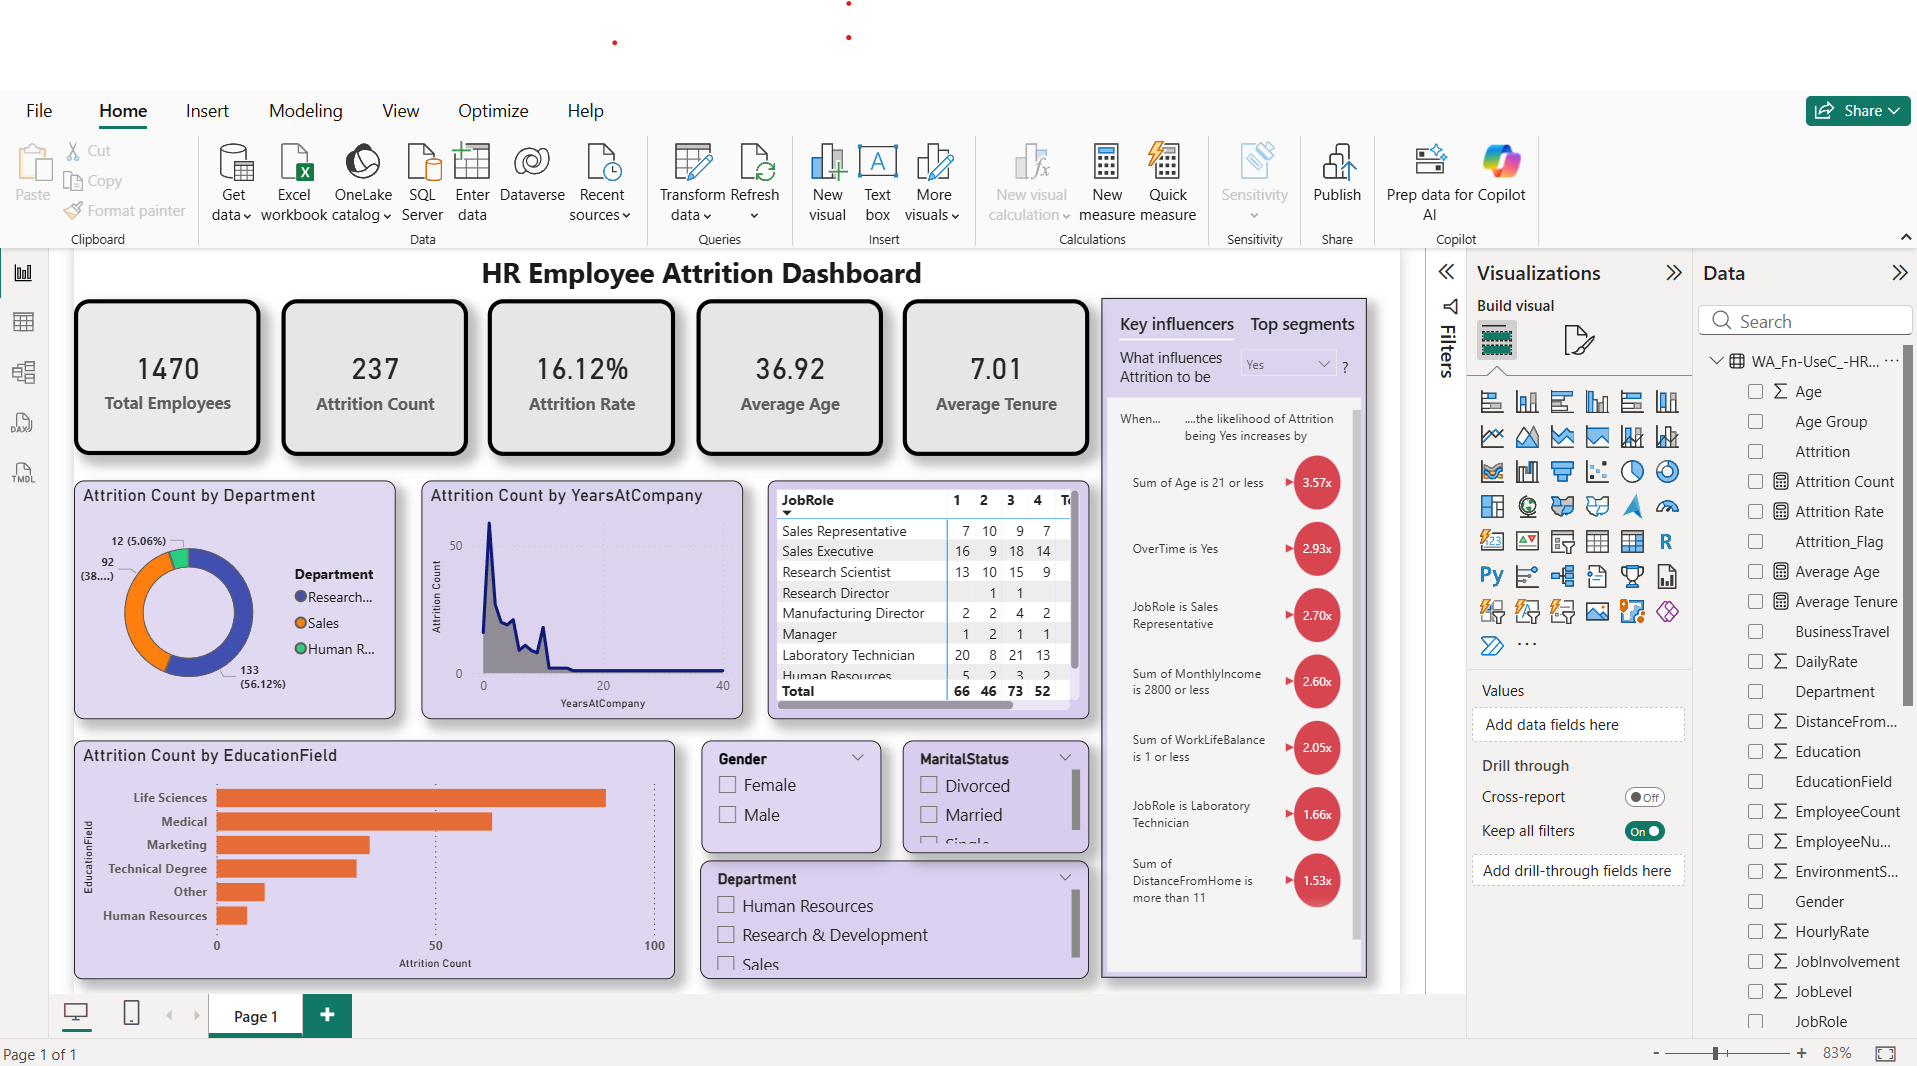

This screenshot's page, from the dashboard's own definition file:
{"tool":"powerbi","page":{"name":"Page 1","canvas":[1280,720],"ordinal":0},"visuals":[{"type":"card","fields":{"Values":["WA_Fn-UseC_-HR-Employee-Attrition.Attrition Count"]},"box":[199.8,50,180,150.9],"z":0},{"type":"card","fields":{"Values":["WA_Fn-UseC_-HR-Employee-Attrition.Attrition Rate"]},"box":[399.5,50,181,150.8],"z":1000},{"type":"card","fields":{"Values":["WA_Fn-UseC_-HR-Employee-Attrition.Average Age"]},"box":[600.2,50,180,150.8],"z":2000},{"type":"card","fields":{"Values":["WA_Fn-UseC_-HR-Employee-Attrition.Average Tenure"]},"box":[800,50,180,150.8],"z":3000},{"type":"pieChart","fields":{"Category":["WA_Fn-UseC_-HR-Employee-Attrition.Department"],"Y":["WA_Fn-UseC_-HR-Employee-Attrition.Attrition Count"]},"box":[0,225,310,230],"z":4000},{"type":"barChart","fields":{"Category":["WA_Fn-UseC_-HR-Employee-Attrition.EducationField"],"Y":["WA_Fn-UseC_-HR-Employee-Attrition.Attrition Count"]},"box":[0,475,580,230.4],"z":5000},{"type":"lineChart","fields":{"Y":["WA_Fn-UseC_-HR-Employee-Attrition.Attrition Count"],"Category":["WA_Fn-UseC_-HR-Employee-Attrition.YearsAtCompany"]},"box":[334.8,225,310,230],"z":6000},{"type":"pivotTable","fields":{"Rows":["WA_Fn-UseC_-HR-Employee-Attrition.JobRole"],"Values":["WA_Fn-UseC_-HR-Employee-Attrition.Attrition Count"],"Columns":["WA_Fn-UseC_-HR-Employee-Attrition.JobSatisfaction"]},"box":[669.6,224.4,310.1,230.4],"z":7000},{"type":"keyDriversVisual","fields":{"Target":["WA_Fn-UseC_-HR-Employee-Attrition.Attrition"],"ExplainBy":["Sum(WA_Fn-UseC_-HR-Employee-Attrition.Age)","Sum(WA_Fn-UseC_-HR-Employee-Attrition.DistanceFromHome)","WA_Fn-UseC_-HR-Employee-Attrition.OverTime","Sum(WA_Fn-UseC_-HR-Employee-Attrition.MonthlyIncome)","Sum(WA_Fn-UseC_-HR-Employee-Attrition.WorkLifeBalance)","WA_Fn-UseC_-HR-Employee-Attrition.JobRole"]},"box":[992,48,256,656],"z":8000},{"type":"textbox","box":[315.6,0,579.1,45.3],"z":9000},{"type":"slicer","fields":{"Values":["WA_Fn-UseC_-HR-Employee-Attrition.Gender"]},"box":[605.6,475.3,173.7,108.6],"z":10000},{"type":"slicer","fields":{"Values":["WA_Fn-UseC_-HR-Employee-Attrition.Department"]},"box":[604.4,591.2,375.2,114.6],"z":11000},{"type":"slicer","fields":{"Values":["WA_Fn-UseC_-HR-Employee-Attrition.MaritalStatus"]},"box":[799.9,475.3,179.8,108.6],"z":12000},{"type":"card","fields":{"Values":["WA_Fn-UseC_-HR-Employee-Attrition.Total Employees"]},"box":[0,50,180,150],"z":13000}]}

Visuals, with their boxes on the page's 1280x720 design canvas (x1, y1, x2, y2). These are canvas units, not pixel positions in the 1917x1066 screenshot, which may show the page scaled, cropped or inside an application window:
card - WA_Fn-UseC_-HR-Employee-Attrition.Attrition Count: locate(200, 50, 380, 201)
card - WA_Fn-UseC_-HR-Employee-Attrition.Attrition Rate: locate(400, 50, 580, 201)
card - WA_Fn-UseC_-HR-Employee-Attrition.Average Age: locate(600, 50, 780, 201)
card - WA_Fn-UseC_-HR-Employee-Attrition.Average Tenure: locate(800, 50, 980, 201)
pieChart - WA_Fn-UseC_-HR-Employee-Attrition.Department x WA_Fn-UseC_-HR-Employee-Attrition.Attrition Count: locate(0, 225, 310, 455)
barChart - WA_Fn-UseC_-HR-Employee-Attrition.EducationField x WA_Fn-UseC_-HR-Employee-Attrition.Attrition Count: locate(0, 475, 580, 705)
lineChart - WA_Fn-UseC_-HR-Employee-Attrition.Attrition Count x WA_Fn-UseC_-HR-Employee-Attrition.YearsAtCompany: locate(335, 225, 645, 455)
pivotTable - WA_Fn-UseC_-HR-Employee-Attrition.JobRole x WA_Fn-UseC_-HR-Employee-Attrition.Attrition Count: locate(670, 224, 980, 455)
keyDriversVisual - WA_Fn-UseC_-HR-Employee-Attrition.Attrition x Sum(WA_Fn-UseC_-HR-Employee-Attrition.Age): locate(992, 48, 1248, 704)
textbox: locate(316, 0, 895, 45)
slicer - WA_Fn-UseC_-HR-Employee-Attrition.Gender: locate(606, 475, 779, 584)
slicer - WA_Fn-UseC_-HR-Employee-Attrition.Department: locate(604, 591, 980, 706)
slicer - WA_Fn-UseC_-HR-Employee-Attrition.MaritalStatus: locate(800, 475, 980, 584)
card - WA_Fn-UseC_-HR-Employee-Attrition.Total Employees: locate(0, 50, 180, 200)
